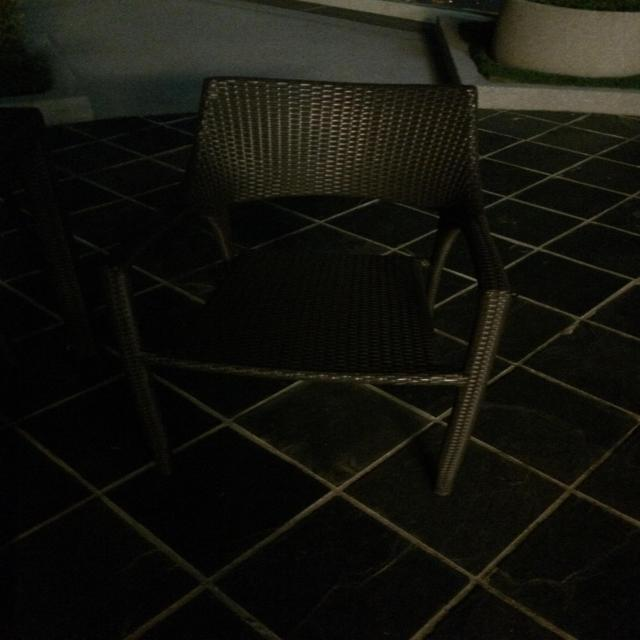chair: (53, 61, 526, 578)
